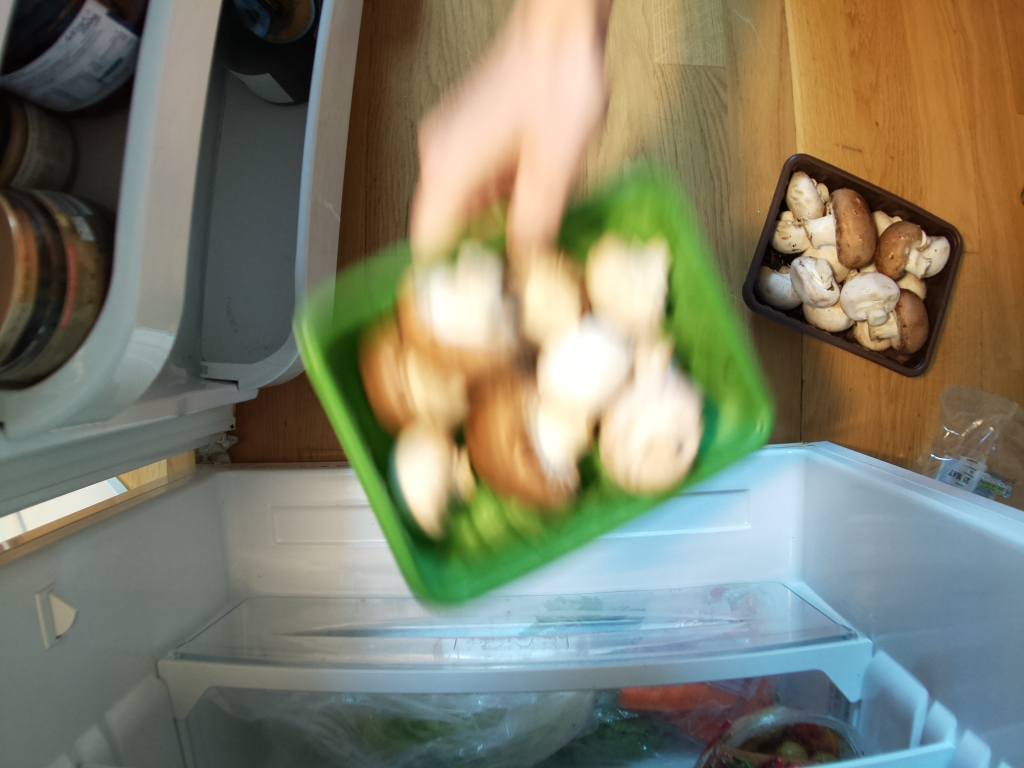mushrooms: (308, 202, 748, 535), (752, 158, 959, 365)
